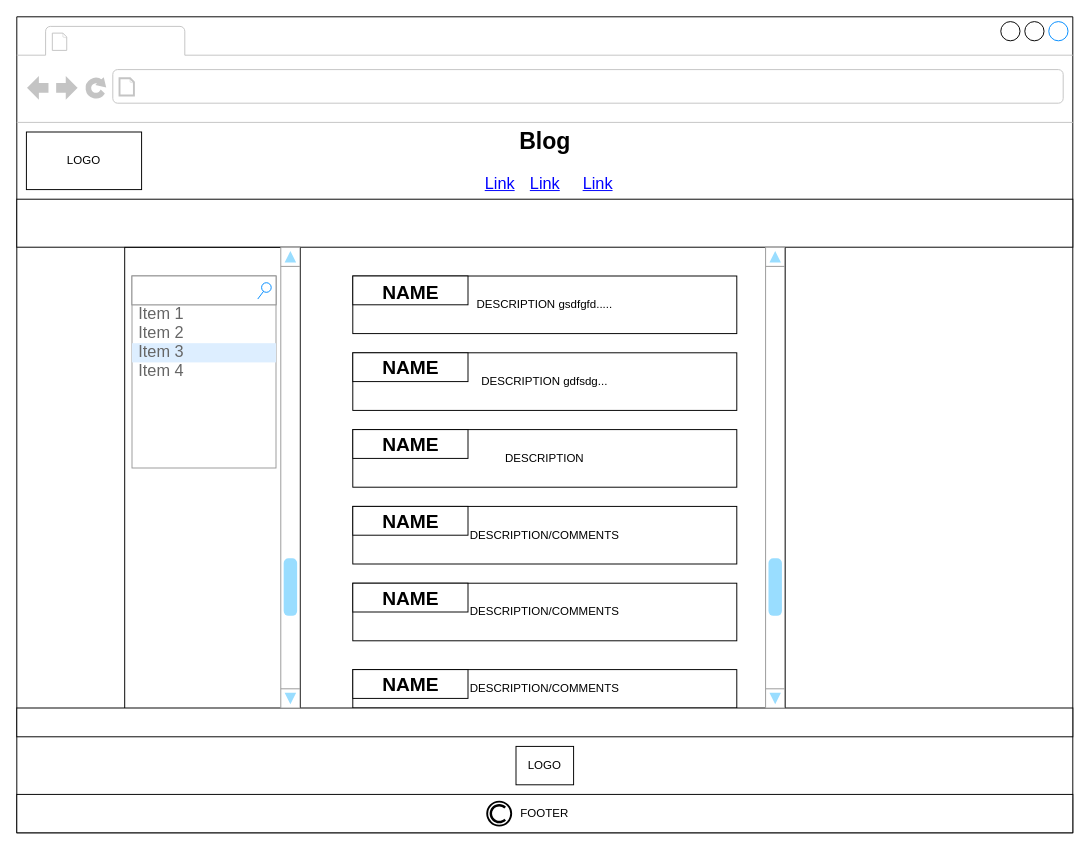
Image size: 1090x850. Some labels were removed from this diagram. The centre of each missing label's shape, as x and y in pixels:
"BANNER/ COOL PIC" belongs at point (544, 222).
"DISCLAIMER" belongs at point (544, 722).
"https://www.draw.io" belongs at point (261, 86).
"Page 1" belongs at point (126, 40).
"Search" belongs at point (203, 290).
